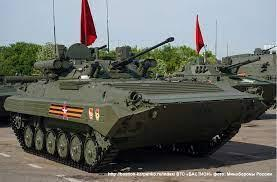tank: (4, 26, 268, 176)
